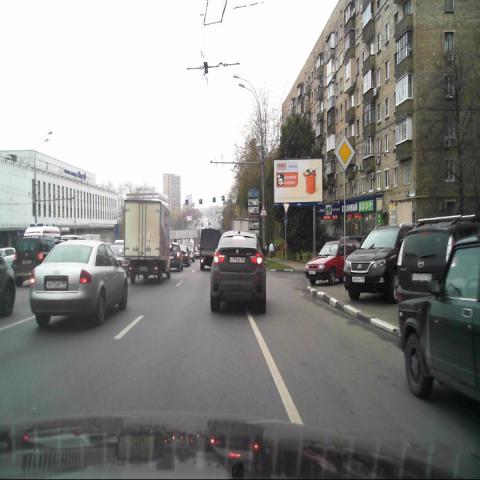2_1: (334, 134, 354, 170)
